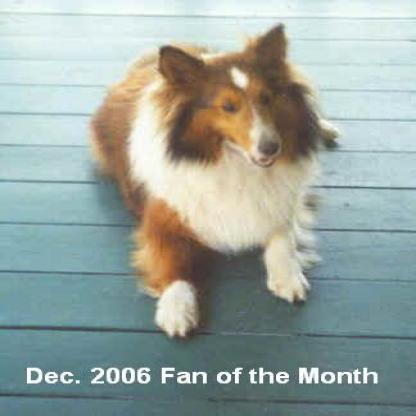collie: (86, 21, 343, 339)
